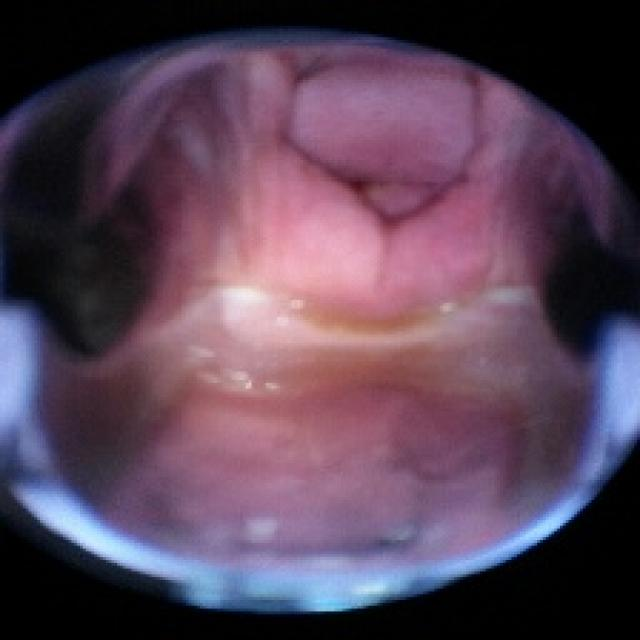type-2: (70, 86, 578, 526)
